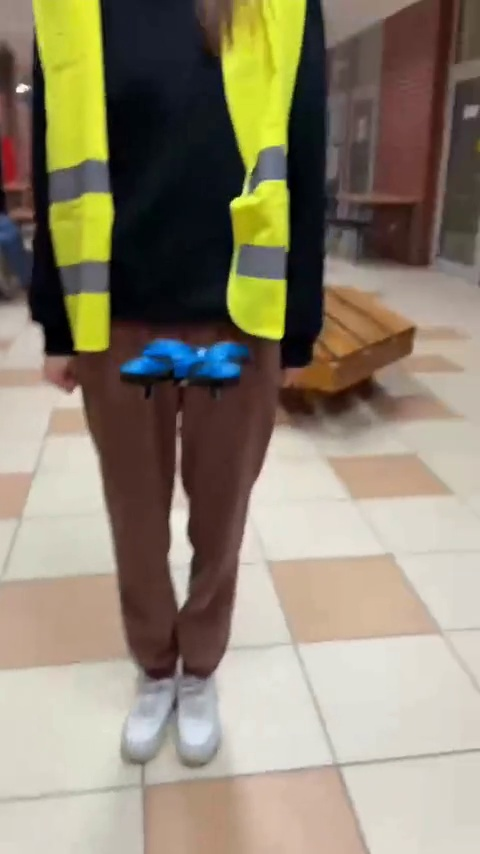drone: (123, 334, 251, 396)
vest: (35, 63, 334, 781)
